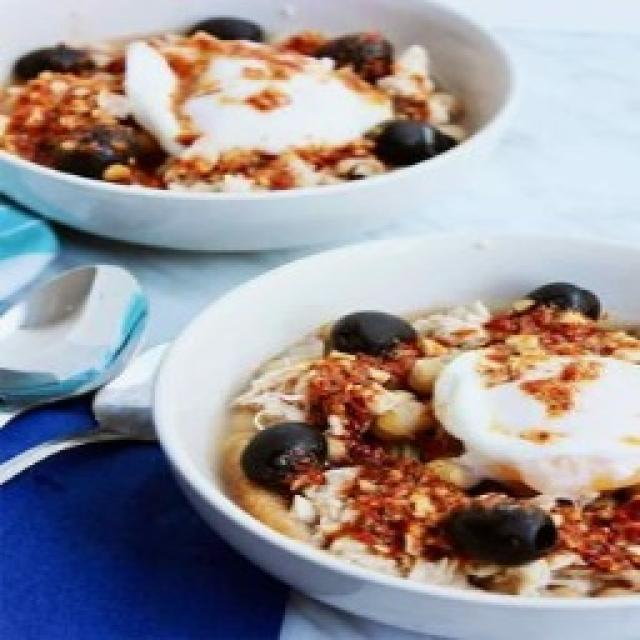Lablabi: (222, 282, 640, 597), (0, 32, 459, 191)
